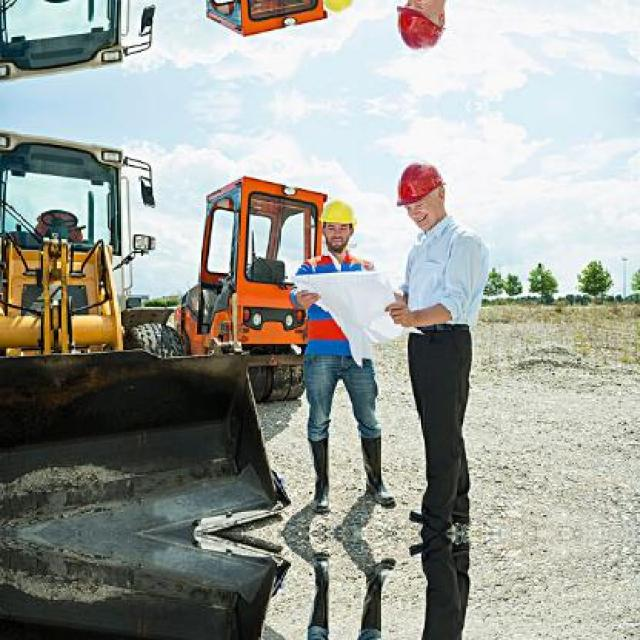helmet: (389, 140, 448, 244), (389, 0, 449, 72), (317, 187, 360, 256), (317, 0, 361, 26)
